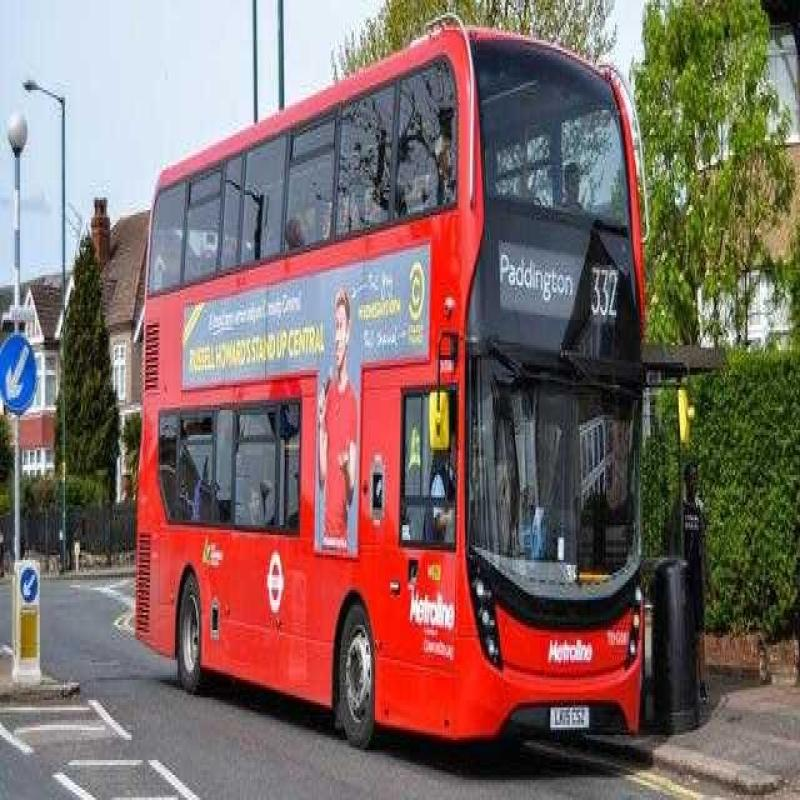bus: (135, 32, 644, 800)
